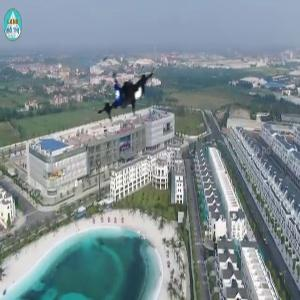drone: (89, 50, 167, 128)
